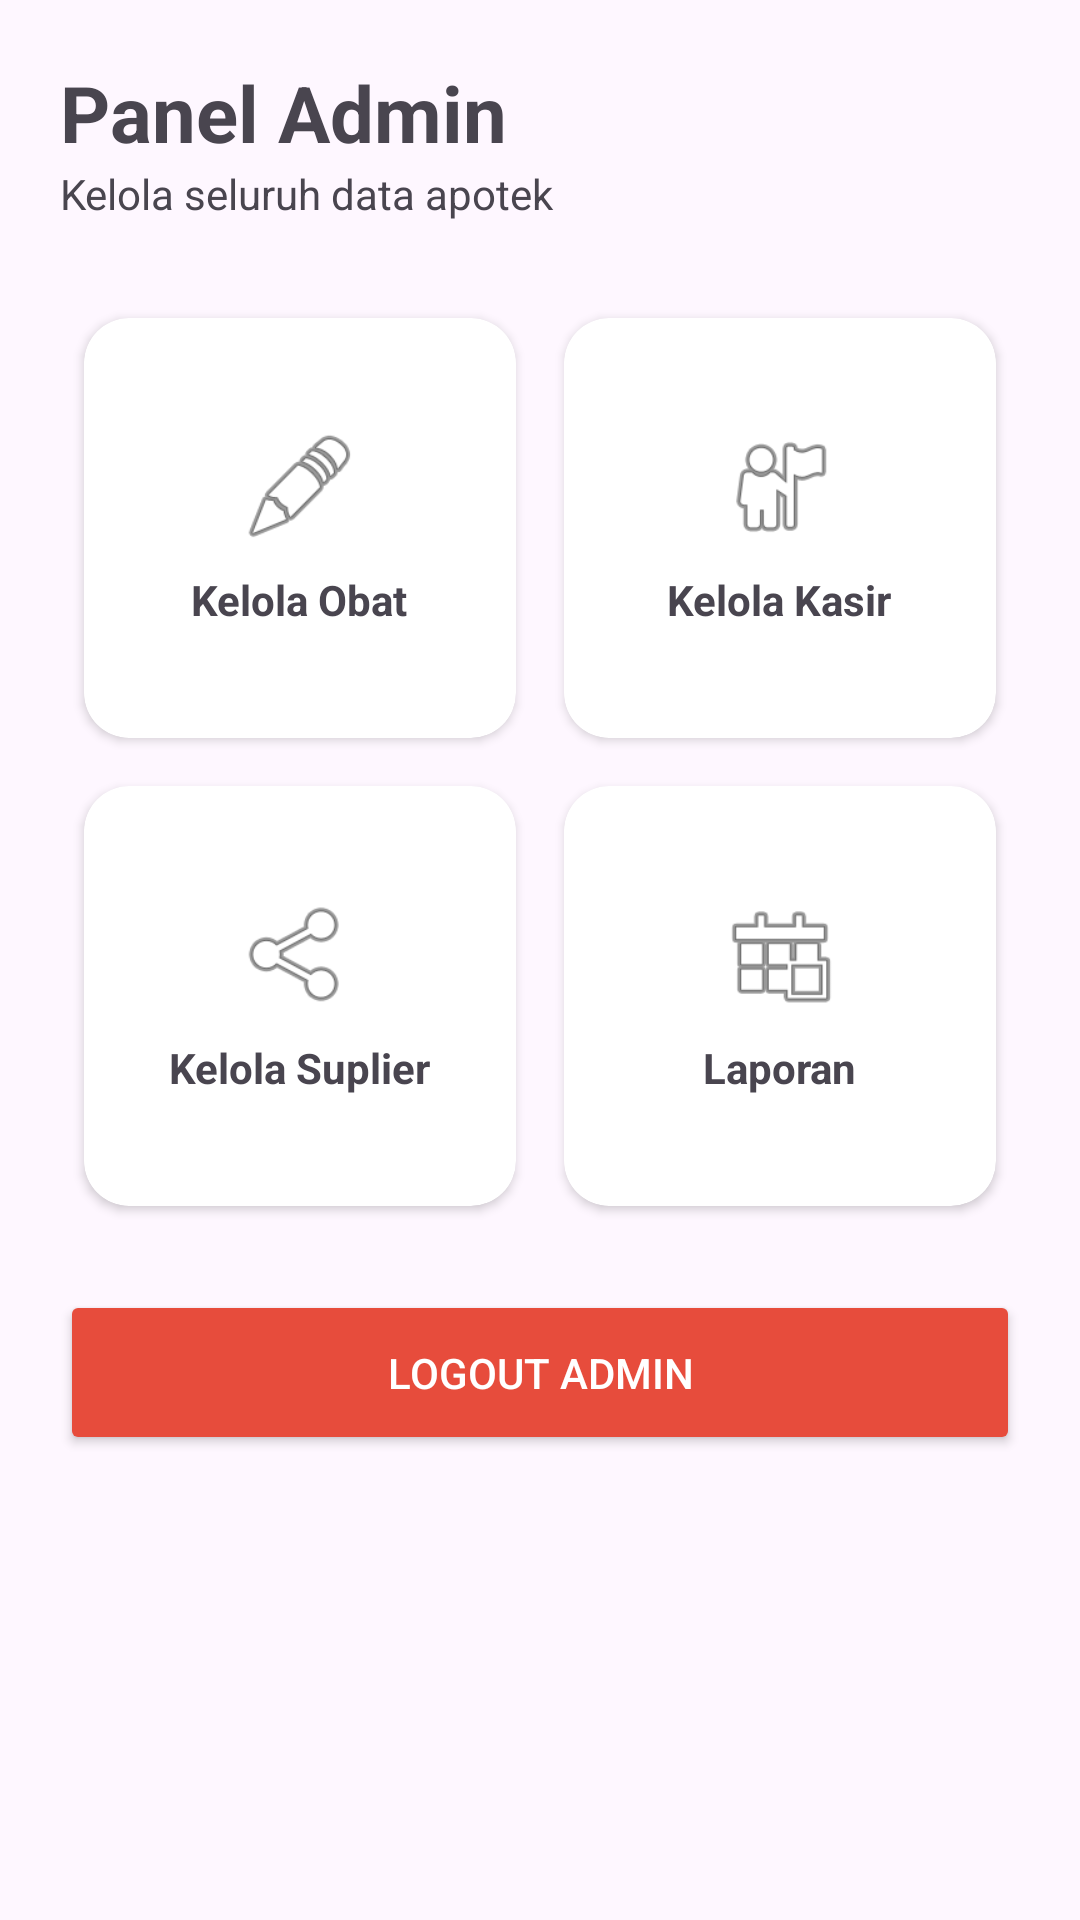

Where to tap for icons on this 1080px×1920px app screen, as point (x, y):
edit: point (299, 486)
myplaces: point (781, 487)
share: point (294, 954)
today: point (781, 957)
